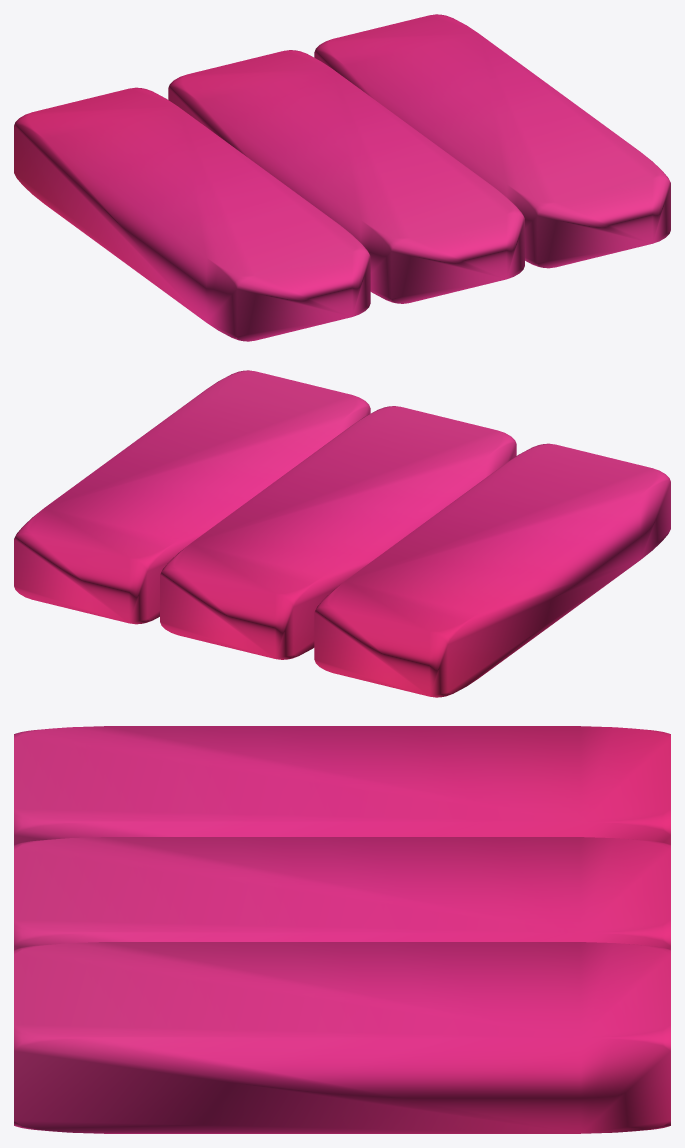
File: sandalye_oturak.fbx
3 renders of one model, top to bottom at view 1: azimuth 30°, elevation 25°; view 2: azimuth 150°, elevation 25°; view 3: azimuth 270°, elevation 25°, orthographic. The views are drawn at different scales.
Visible parts, largest first — view 1: sandalye_1; view 2: sandalye_1; view 3: sandalye_1.
Part boxes in pixels (bbox=[...]): sandalye_1: bbox=[14, 14, 670, 341]; sandalye_1: bbox=[14, 370, 670, 697]; sandalye_1: bbox=[14, 726, 670, 1133].
Size of the model in its own units: 323 by 46.31 by 287.
Materials: 1 (1 with a texture image).
